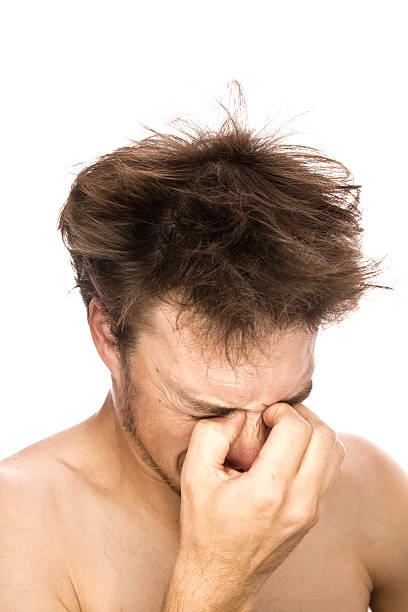dry hair: (223, 281, 303, 363), (68, 174, 130, 272), (191, 199, 263, 257), (332, 271, 361, 300)
